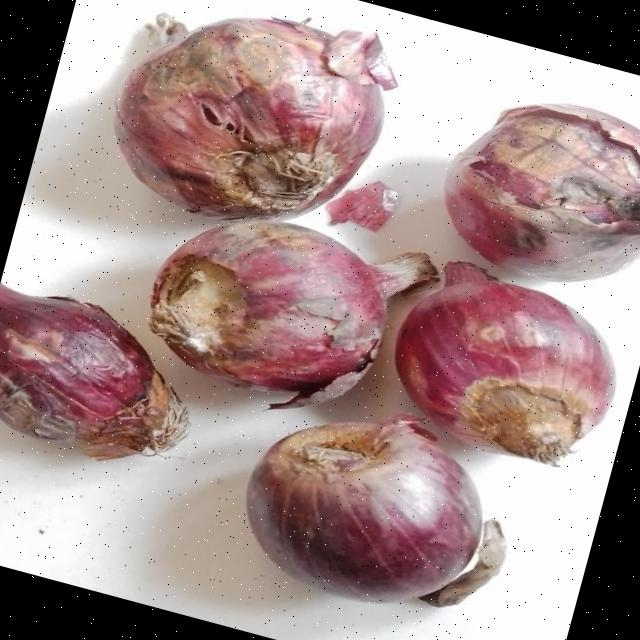Onion: (112, 15, 395, 219), (148, 219, 436, 408), (245, 414, 506, 606), (394, 261, 614, 464), (444, 103, 640, 279), (0, 284, 186, 459)
